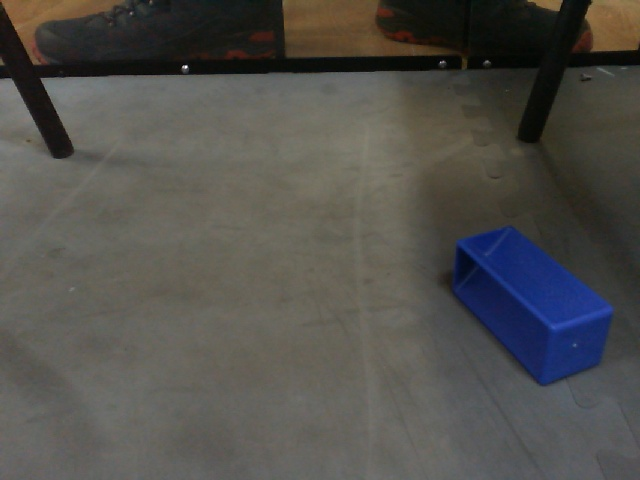BlueSample: (443, 223, 616, 391)
